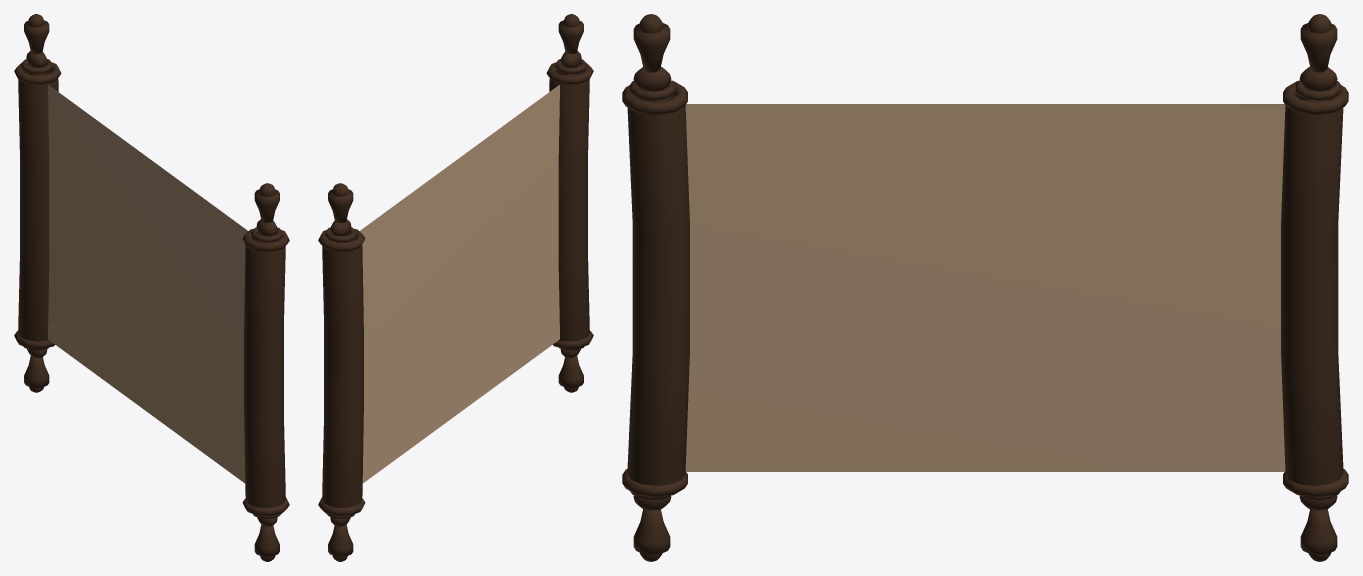
The model's file is BluePrintScroll.fbx.
3 renders of one model, left to right at view 1: azimuth 30°, elevation 25°; view 2: azimuth 150°, elevation 25°; view 3: azimuth 270°, elevation 25°, orthographic. The views are drawn at different scales.
Visible parts, largest first — view 1: Cube, Cylinder, Cylinder.001, Torus, Sphere, Torus.001, Sphere.001; view 2: Cube, Cylinder, Cylinder.001, Torus, Sphere, Torus.001, Sphere.001; view 3: Cube, Cylinder, Cylinder.001, Torus, Sphere, Torus.001, Sphere.001.
Part boxes in pixels (left/top/right/bottom): Cube: left=48, top=85, right=248, bottom=483; Cylinder: left=18, top=70, right=285, bottom=507; Cylinder.001: left=24, top=20, right=279, bottom=556; Torus: left=14, top=62, right=289, bottom=516; Sphere: left=26, top=51, right=277, bottom=526; Torus.001: left=20, top=58, right=283, bottom=518; Sphere.001: left=28, top=14, right=275, bottom=561; Cube: left=359, top=85, right=559, bottom=483; Cylinder: left=322, top=70, right=589, bottom=507; Cylinder.001: left=328, top=20, right=583, bottom=556; Torus: left=318, top=62, right=593, bottom=516; Sphere: left=330, top=51, right=581, bottom=526; Torus.001: left=324, top=58, right=587, bottom=518; Sphere.001: left=332, top=14, right=579, bottom=561; Cube: left=685, top=104, right=1285, bottom=471; Cylinder: left=627, top=94, right=1343, bottom=485; Cylinder.001: left=633, top=23, right=1337, bottom=554; Torus: left=622, top=80, right=1348, bottom=497; Sphere: left=633, top=67, right=1337, bottom=510; Torus.001: left=630, top=80, right=1340, bottom=500; Sphere.001: left=639, top=14, right=1331, bottom=561.
Size of the model in its own units: 5.1 by 44.53 by 53.7.
